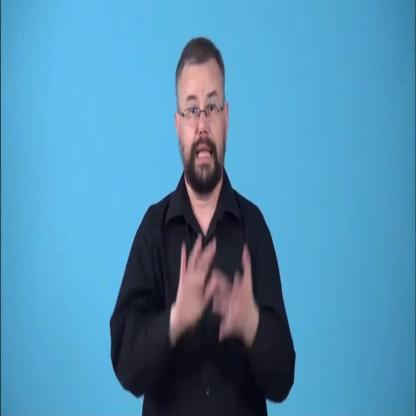Internet: (180, 210, 264, 367)
